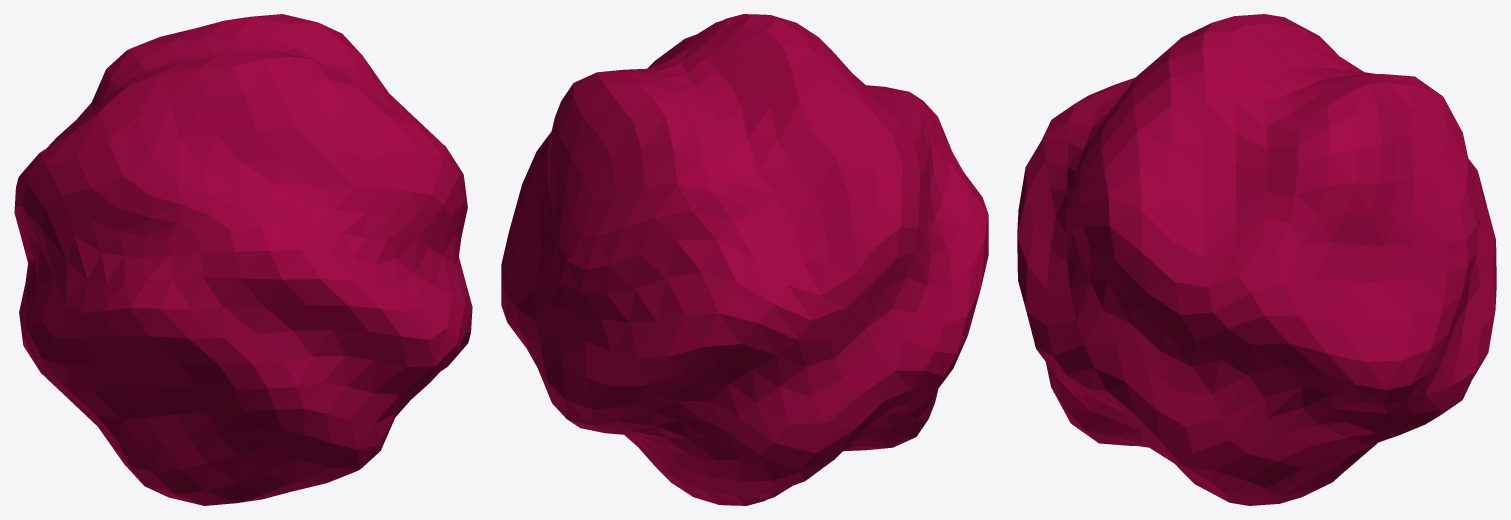
The model's file is Blobbie.dae.
3 views of the same model, side by side, from view 1: azimuth 30°, elevation 25°; view 2: azimuth 150°, elevation 25°; view 3: azimuth 270°, elevation 25° (orthographic).
Parts seen in each view (by area): view 1: mrBlob; view 2: mrBlob; view 3: mrBlob.
Boxes of the visible parts, left/top/right/bottom form: mrBlob: left=14, top=14, right=472, bottom=505; mrBlob: left=501, top=14, right=988, bottom=505; mrBlob: left=1017, top=14, right=1496, bottom=505.
Size of the model in its own units: 2.08 by 2.07 by 2.14.
